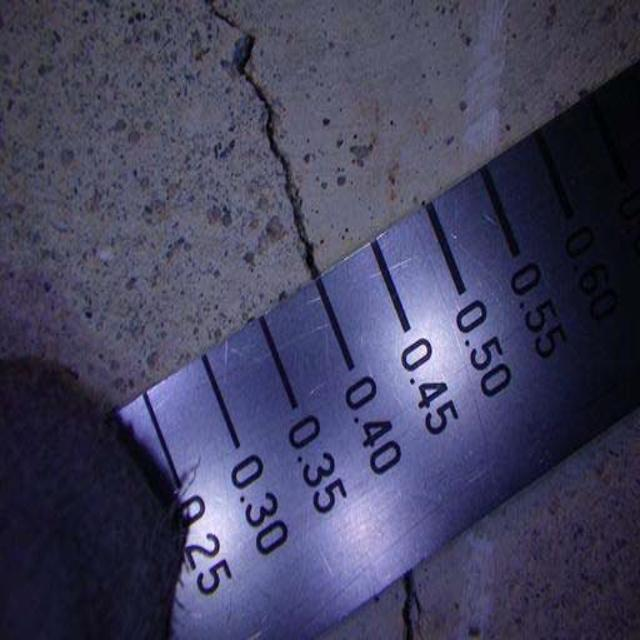crack: (203, 7, 330, 280)
